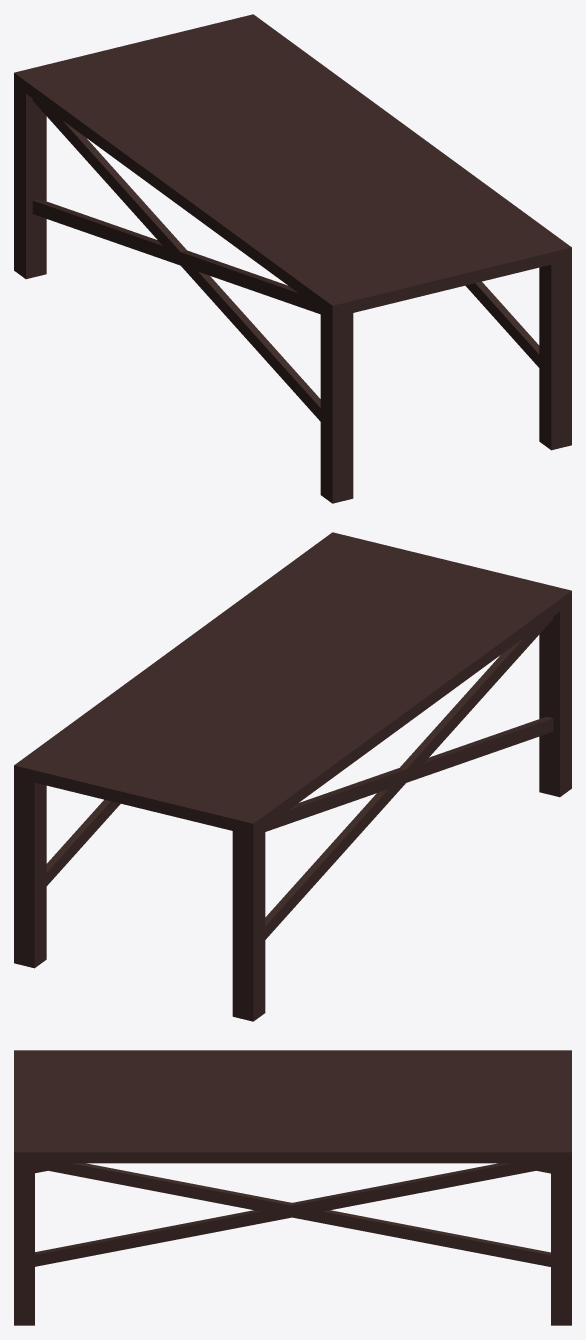
Rendered from GrandeTable_22.fbx.
3 views of the same model, one above another, from view 1: azimuth 30°, elevation 25°; view 2: azimuth 150°, elevation 25°; view 3: azimuth 270°, elevation 25° (orthographic). The views are drawn at different scales.
Visible parts, largest first — view 1: pCube64, pCube66, pCube65, pCube73, pCube67, pCube74, pCube72; view 2: pCube64, pCube67, pCube68, pCube74, pCube66, pCube73, pCube69; view 3: pCube64, pCube69, pCube72, pCube68, pCube65.
Part boxes in pixels (bbox=[...]): pCube64: bbox=[14, 14, 571, 317]; pCube66: bbox=[320, 309, 353, 503]; pCube65: bbox=[539, 259, 571, 450]; pCube73: bbox=[32, 99, 320, 421]; pCube67: bbox=[14, 84, 46, 279]; pCube74: bbox=[32, 199, 320, 314]; pCube72: bbox=[465, 281, 539, 367]; pCube64: bbox=[14, 532, 571, 835]; pCube67: bbox=[232, 827, 265, 1021]; pCube68: bbox=[14, 777, 46, 968]; pCube74: bbox=[265, 617, 553, 939]; pCube66: bbox=[539, 602, 571, 797]; pCube73: bbox=[265, 716, 553, 831]; pCube69: bbox=[46, 799, 120, 885]; pCube64: bbox=[14, 1050, 571, 1163]; pCube69: bbox=[35, 1163, 550, 1266]; pCube72: bbox=[35, 1163, 550, 1266]; pCube68: bbox=[551, 1162, 571, 1325]; pCube65: bbox=[14, 1162, 34, 1325].
Size of the model in its own units: 52.71 by 41.63 by 121.
